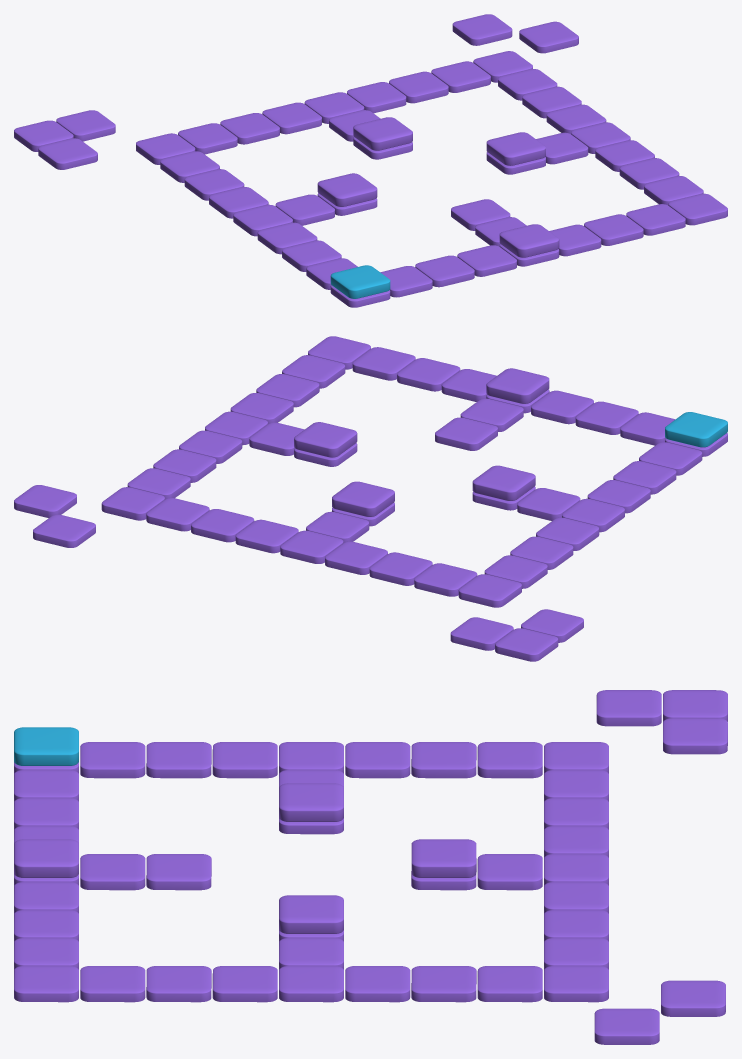
The model's file is Level13.glb.
3 views of the same model, one above another, from view 1: azimuth 30°, elevation 25°; view 2: azimuth 150°, elevation 25°; view 3: azimuth 270°, elevation 25° (orthographic). The views are drawn at different scales.
Visible parts, largest first — view 1: block, block.001, block.002, block.004, block.003, platform.004, platform.003, platform.001, platform.039, platform.027, platform.041, platform.029 (+38 smaller); view 2: block.002, block.001, block.003, block.004, block, platform.028, platform.026, platform.004, platform.014, platform.003, platform.029, platform.035 (+35 smaller); view 3: block.004, block, block.001, block.002, block.003, platform.003, platform.001, platform.021, platform.018, platform.017, platform.022, platform.019 (+35 smaller).
Boxes of the visible parts, x1,y1,x2,y2 form: block: [330, 265, 390, 298]; block.001: [499, 224, 559, 257]; block.002: [317, 173, 377, 206]; block.004: [353, 117, 412, 150]; block.003: [486, 132, 545, 165]; platform.004: [452, 14, 512, 45]; platform.003: [519, 21, 578, 53]; platform.001: [38, 138, 97, 169]; platform.039: [668, 193, 727, 225]; platform.027: [457, 245, 516, 276]; platform.041: [389, 71, 448, 103]; platform.029: [415, 255, 474, 287]; block.002: [472, 465, 535, 500]; block.001: [486, 368, 549, 403]; block.003: [294, 422, 357, 457]; block.004: [332, 481, 394, 516]; block: [665, 412, 727, 447]; platform.028: [495, 628, 558, 661]; platform.026: [458, 574, 521, 607]; platform.004: [33, 514, 95, 547]; platform.014: [435, 417, 497, 450]; platform.003: [14, 485, 76, 517]; platform.029: [575, 401, 638, 434]; platform.035: [101, 487, 164, 520]; block.004: [411, 839, 476, 877]; block: [14, 727, 78, 765]; block.001: [14, 839, 78, 877]; block.002: [279, 783, 343, 821]; block.003: [279, 895, 343, 933]; platform.003: [594, 1008, 659, 1044]; platform.001: [596, 690, 661, 726]; platform.021: [146, 742, 211, 778]; platform.018: [411, 742, 476, 778]; platform.017: [345, 742, 410, 778]; platform.022: [80, 742, 145, 778]; platform.019: [477, 742, 542, 778].
Size of what is drawn, in the model's own units: 30.53 by 1.04 by 26.62.
